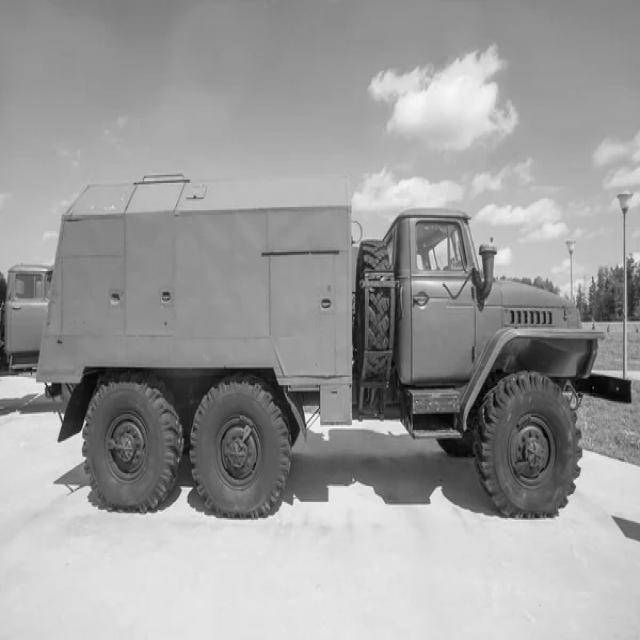Truck: (37, 177, 602, 518)
